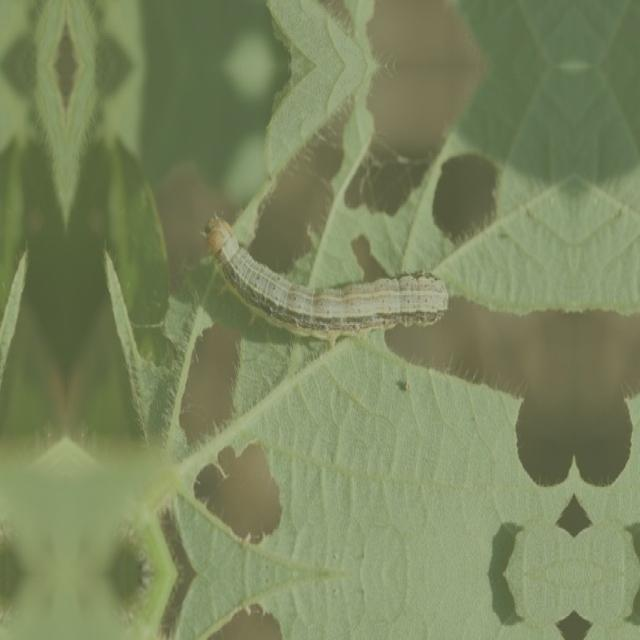armyworm: (199, 210, 449, 348)
